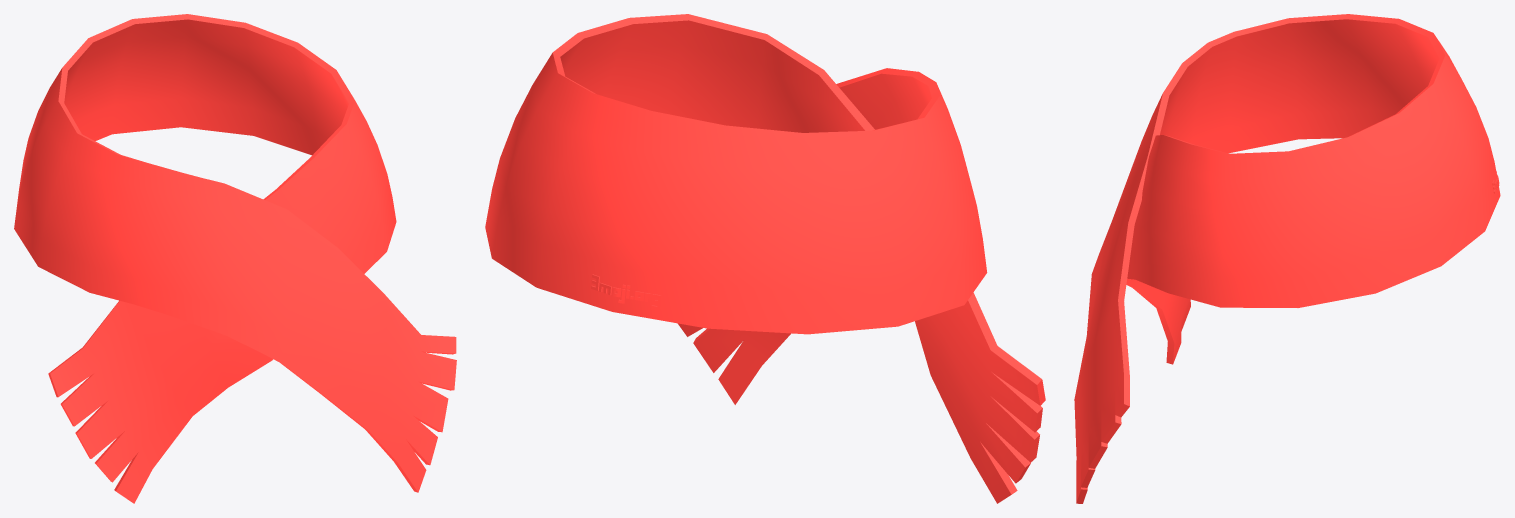
Rendered from scarf.gltf.
The picture shows the model from 3 angles, left to right: view 1: azimuth 30°, elevation 25°; view 2: azimuth 150°, elevation 25°; view 3: azimuth 270°, elevation 25°; orthographic projection. The views are drawn at different scales.
Parts seen in each view (by area): view 1: Circle.1789; view 2: Circle.1789; view 3: Circle.1789.
Boxes of the visible parts, x1,y1,x2,y2 form: Circle.1789: [14, 14, 456, 503]; Circle.1789: [485, 14, 1045, 503]; Circle.1789: [1074, 14, 1500, 503].
Bounding box in the file's own units: 1.89 × 1.88 × 1.85.
1 material, 1 textured.
